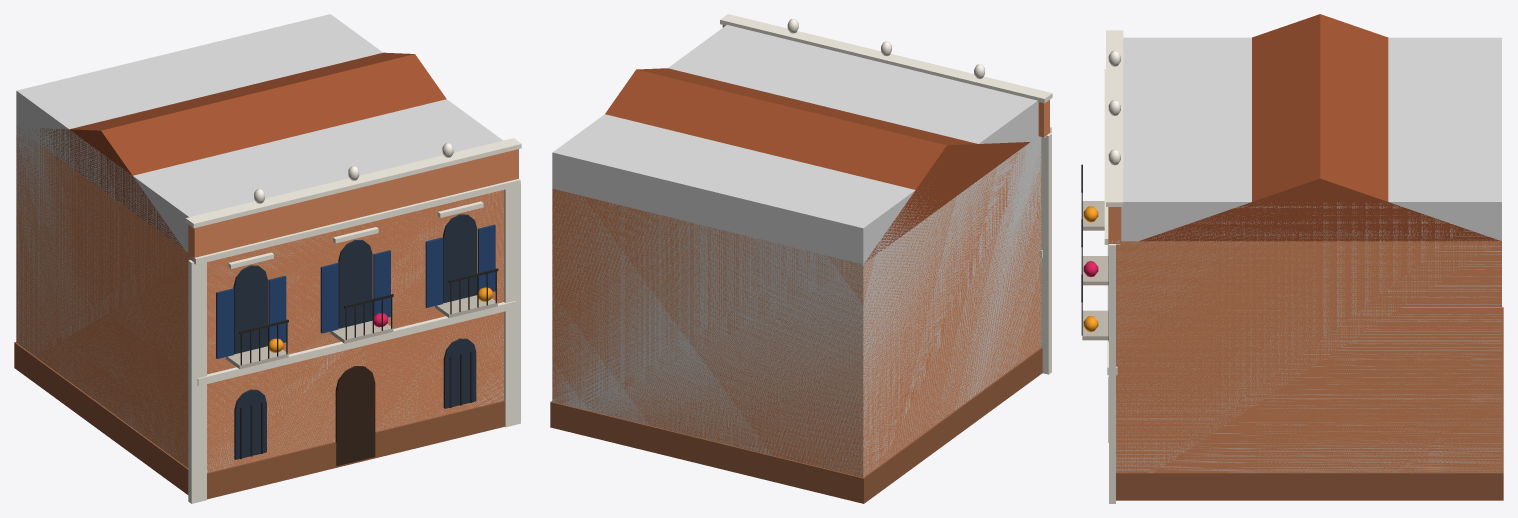
The model's file is sobrado_6.glb.
3 views of the same model, side by side, from view 1: azimuth 30°, elevation 25°; view 2: azimuth 150°, elevation 25°; view 3: azimuth 270°, elevation 25° (orthographic). The views are drawn at different scales.
Visible parts, largest first — view 1: sobrado_6_Malla, COL_0; view 2: COL_0, sobrado_6_Malla; view 3: sobrado_6_Malla, COL_0.
Boxes of the visible parts, box(x1,y1,x2,y2) form: sobrado_6_Malla: box(14, 52, 521, 503); COL_0: box(16, 14, 503, 472); COL_0: box(552, 25, 1041, 476); sobrado_6_Malla: box(550, 14, 1052, 503); sobrado_6_Malla: box(1081, 14, 1503, 503); COL_0: box(1116, 37, 1501, 472).
Size of the model in its own units: 9.44 by 8.2 by 9.76.
